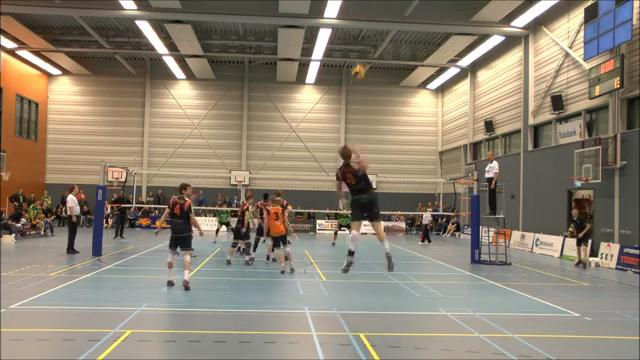Player: (160, 183, 203, 290), (266, 190, 294, 273), (226, 201, 250, 264), (250, 192, 268, 262), (214, 203, 230, 242), (332, 212, 350, 245), (265, 226, 277, 263)
Serve: (332, 143, 400, 275)
ball: (351, 64, 366, 83)
